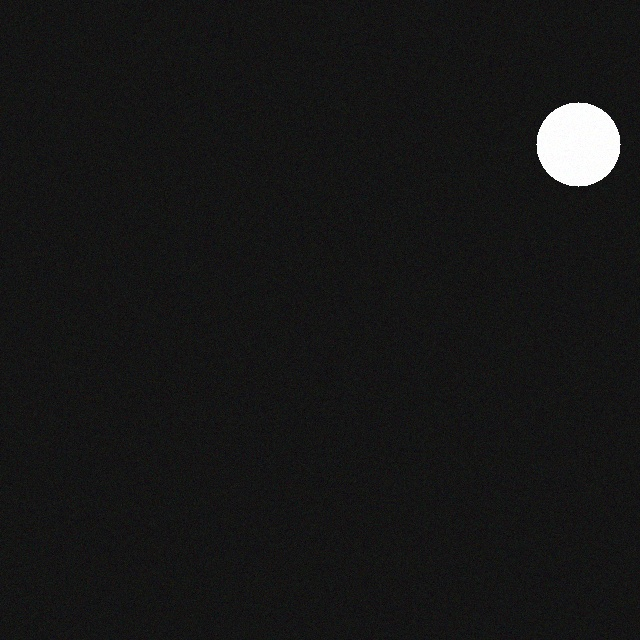circle: (537, 106, 621, 190)
